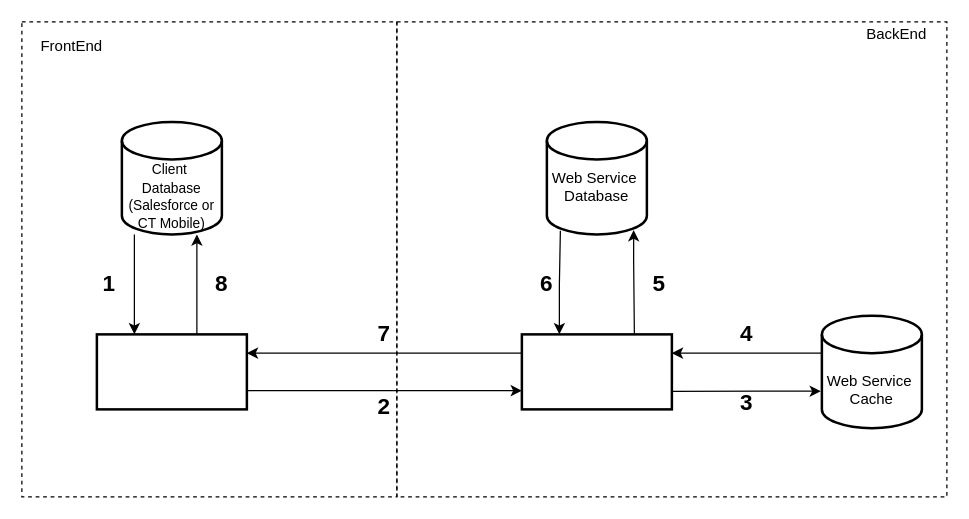
Some shapes in this 969 by 519 pixel diagram are drawn without their labels. Here are the shapes that lost their labels. From the top down, the box of each, then its label:
(95, 332, 248, 410): Order Cart
(520, 332, 672, 410): CT Orders App
